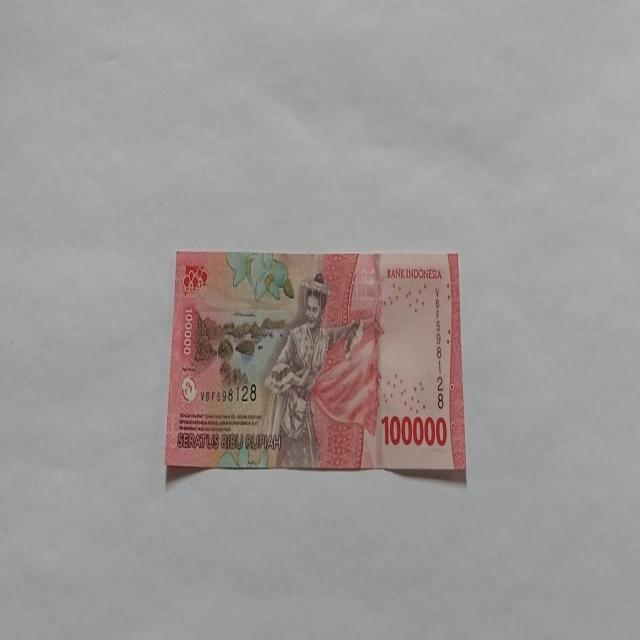seratus ribu rupiah: (164, 249, 466, 475), (260, 272, 364, 468)
